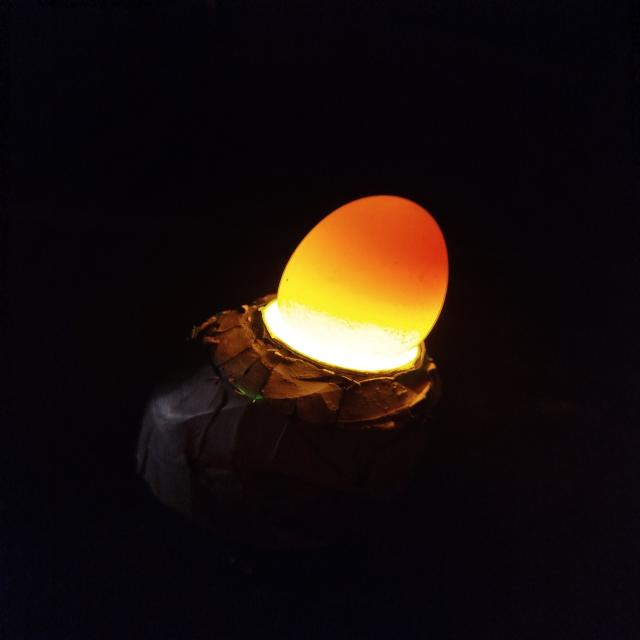Gema Quebrada: (292, 196, 448, 312)
